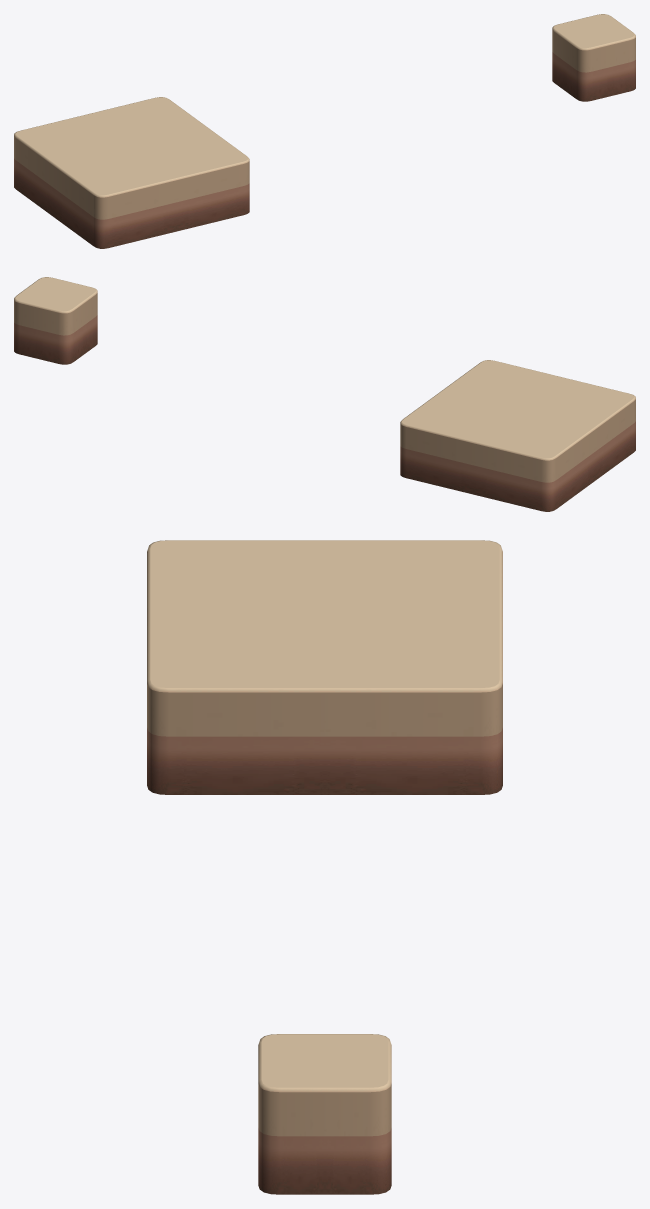
Rendered from Props.fbx.
The picture shows the model from 3 angles, top to bottom: view 1: azimuth 30°, elevation 25°; view 2: azimuth 150°, elevation 25°; view 3: azimuth 270°, elevation 25°; orthographic projection. The views are drawn at different scales.
Parts seen in each view (by area): view 1: Box02, Box01; view 2: Box02, Box01; view 3: Box02, Box01.
Boxes of the visible parts, bbox=[...] form: Box02: bbox=[14, 97, 249, 248]; Box01: bbox=[552, 14, 635, 101]; Box02: bbox=[400, 360, 635, 511]; Box01: bbox=[14, 277, 97, 364]; Box02: bbox=[147, 540, 502, 794]; Box01: bbox=[258, 1034, 391, 1194].
Size of the model in its own units: 29.5 by 2.73 by 8.
